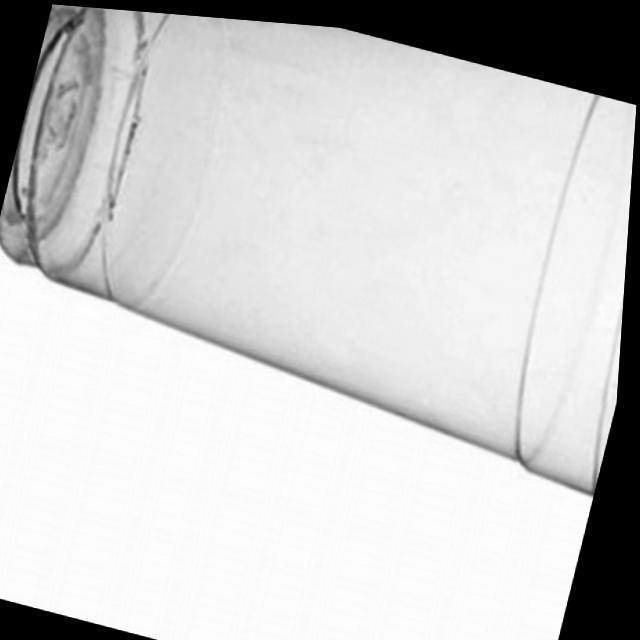cup: (0, 0, 630, 494)
